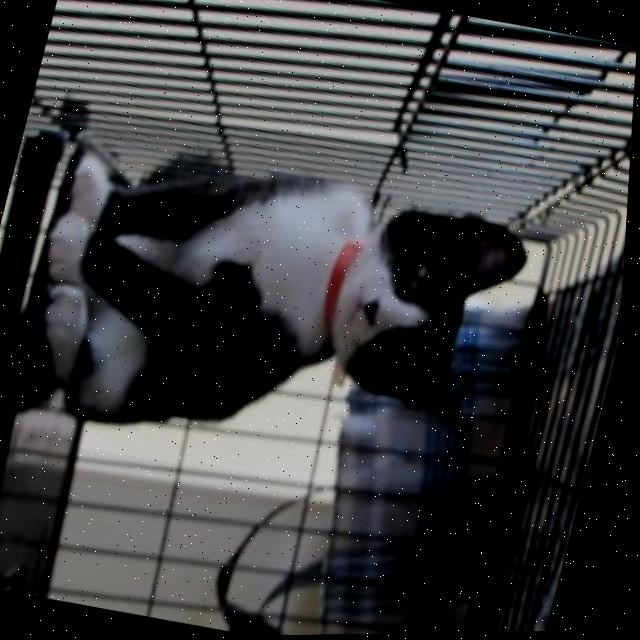Tuxedo: (2, 111, 550, 502)
